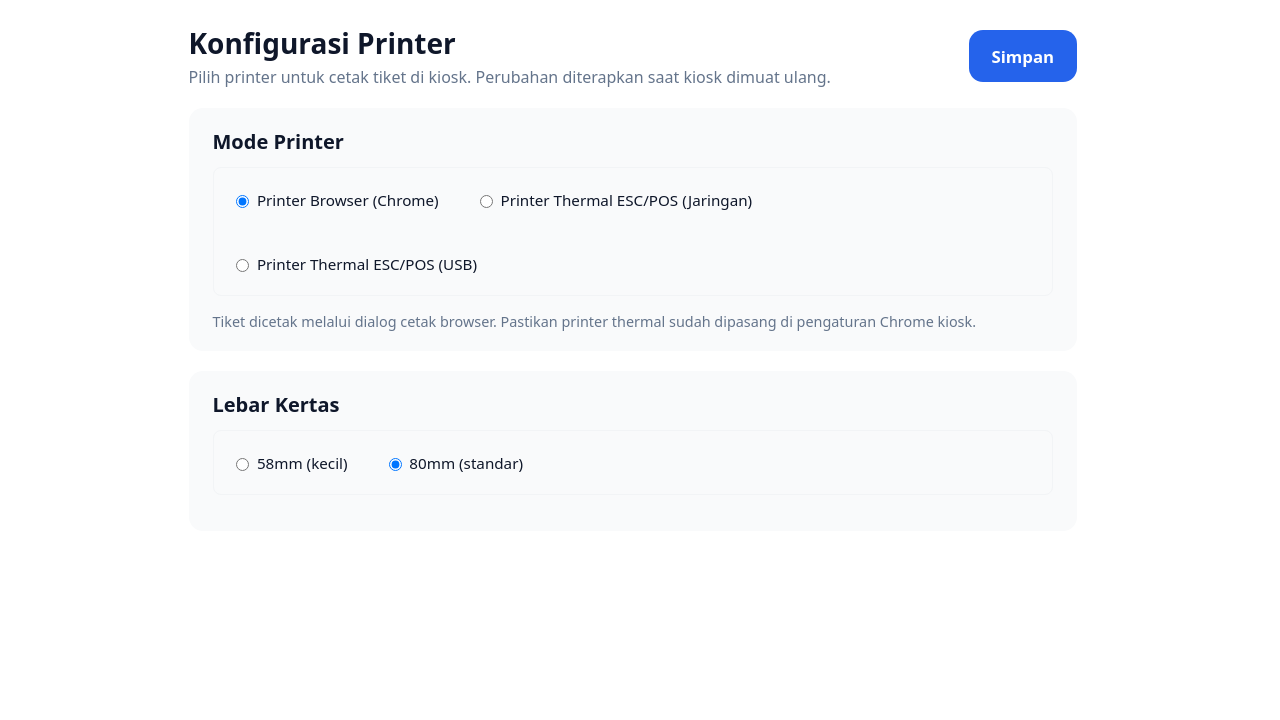
Test: PrinterConfigPage › save success announces the toast and refreshes the shared config
Expected: the radio button with test id "printer-mode--chrome" is shown, [236,195,249,208]
Click the button with test id "printer-save".
click(1023, 56)  # box [969,30,1076,82]
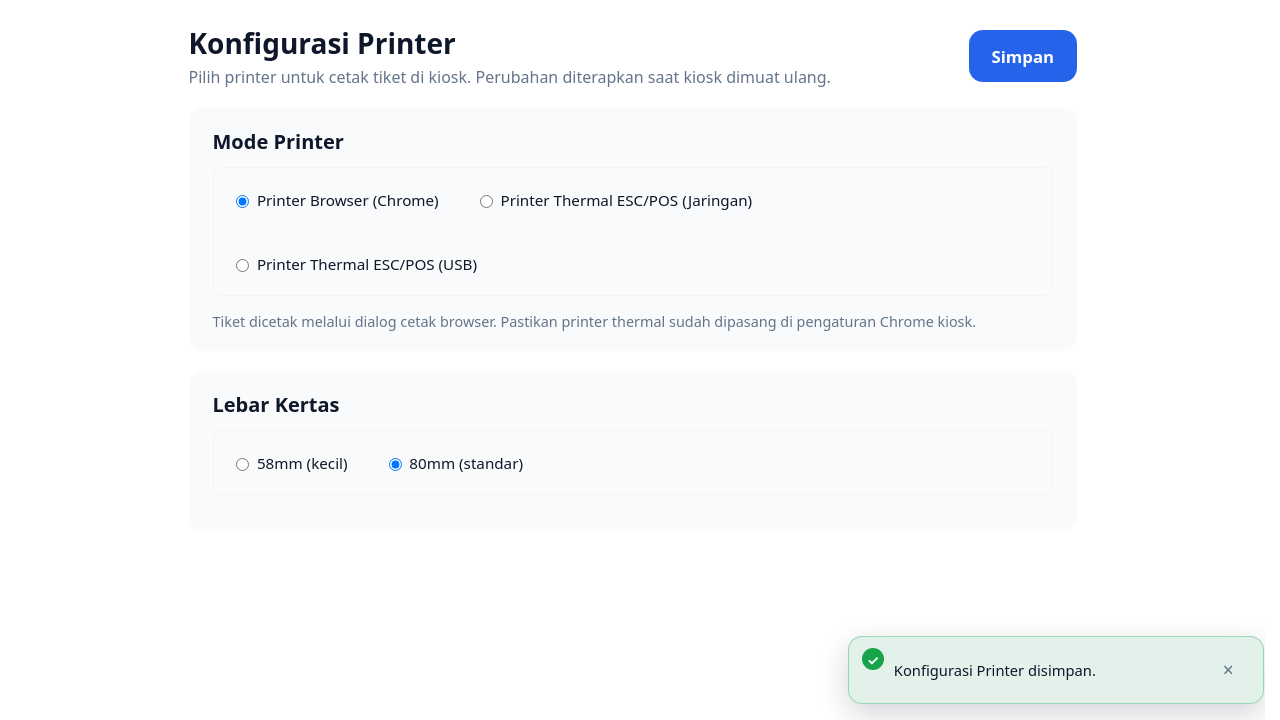
Now the text "Konfigurasi Printer disimpan." is shown, box [894,660,1096,680]
